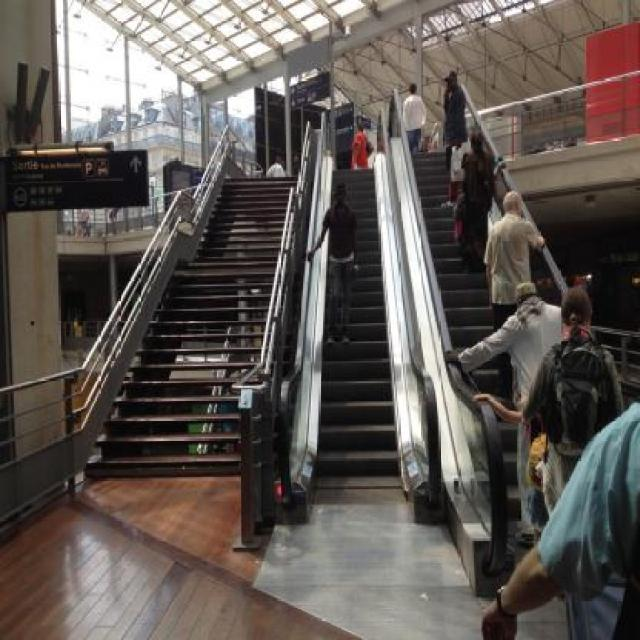stair: (76, 171, 302, 480), (412, 148, 520, 517), (311, 163, 404, 466)
